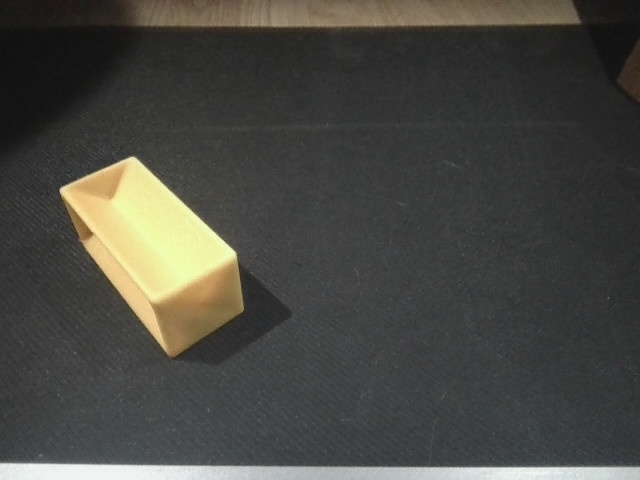YellowSample: (56, 152, 253, 360)
